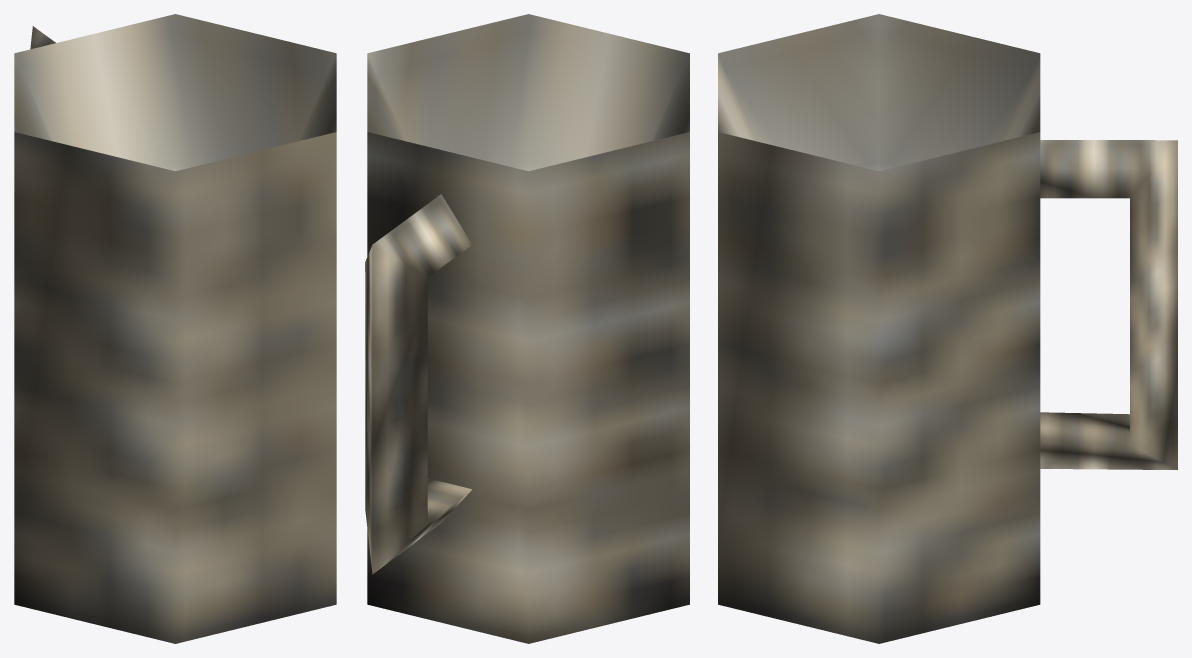
The picture shows the model from 3 angles, left to right: view 1: azimuth 30°, elevation 25°; view 2: azimuth 150°, elevation 25°; view 3: azimuth 270°, elevation 25°; orthographic projection.
Parts seen in each view (by area): view 1: a45; view 2: a45; view 3: a45.
Boxes of the visible parts, x1=… form: a45: x1=14, y1=14, x2=336, y2=643; a45: x1=365, y1=14, x2=689, y2=643; a45: x1=718, y1=14, x2=1177, y2=643.
Size of the model in its own units: 49.86 by 69.86 by 61.61.
